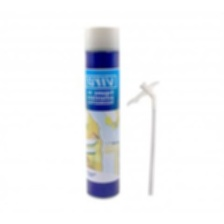aerosol_cans: (82, 22, 125, 203)
